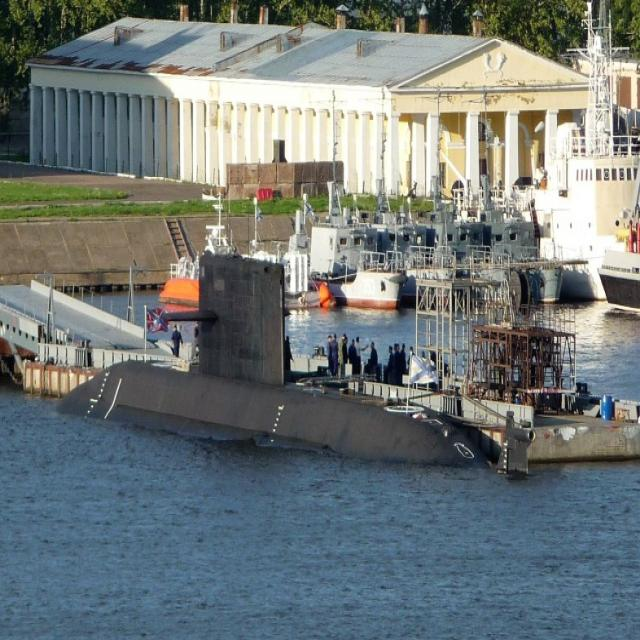submarine: (39, 244, 536, 476)
